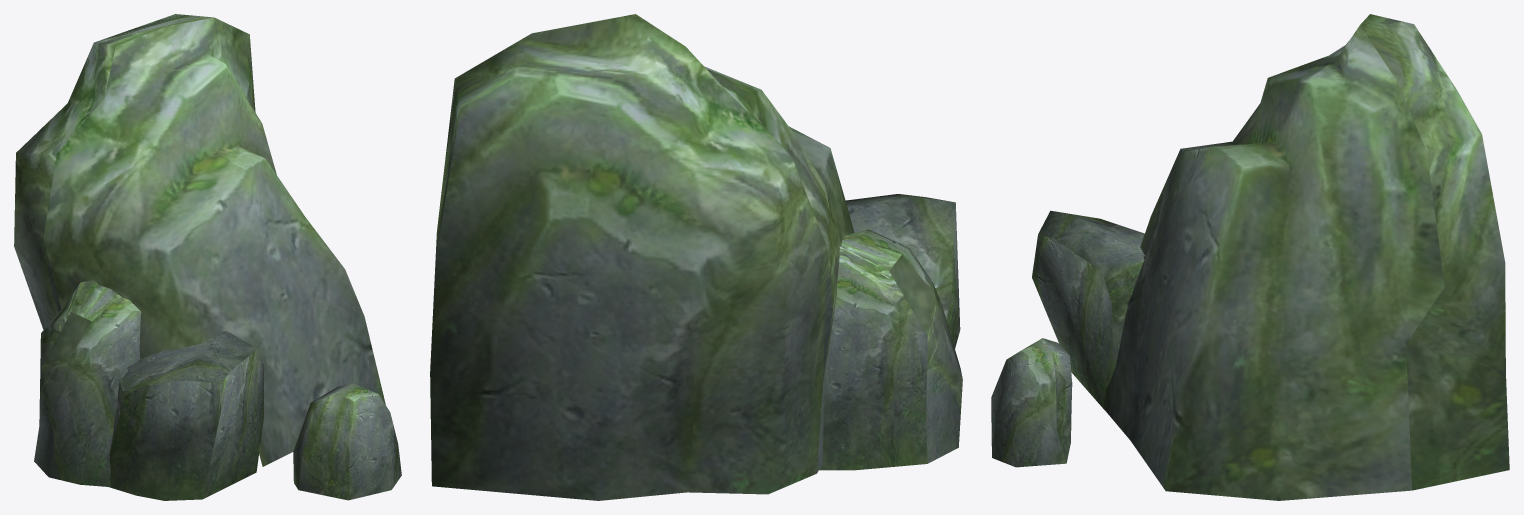
Rendered from cj_xinshou_shitou04_53_30_6793out.fbx.
3 views of the same model, side by side, from view 1: azimuth 30°, elevation 25°; view 2: azimuth 150°, elevation 25°; view 3: azimuth 270°, elevation 25° (orthographic). The views are drawn at different scales.
Parts seen in each view (by area): view 1: cj_xinshou_shitou04; view 2: cj_xinshou_shitou04; view 3: cj_xinshou_shitou04.
Part boxes in pixels (box(x1,y1,x2,y2)): cj_xinshou_shitou04: box(14, 14, 401, 500); cj_xinshou_shitou04: box(430, 14, 962, 500); cj_xinshou_shitou04: box(991, 14, 1509, 500).
Size of the model in its own units: 2.8 by 2.83 by 3.31.
